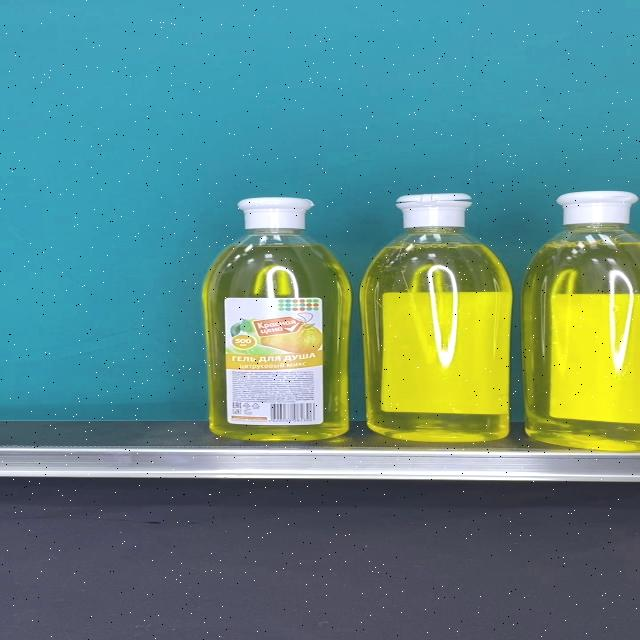Bottle: (359, 193, 513, 442), (202, 197, 352, 441), (522, 190, 640, 451)
Cap: (555, 190, 639, 226), (238, 197, 316, 231), (396, 193, 472, 227)
